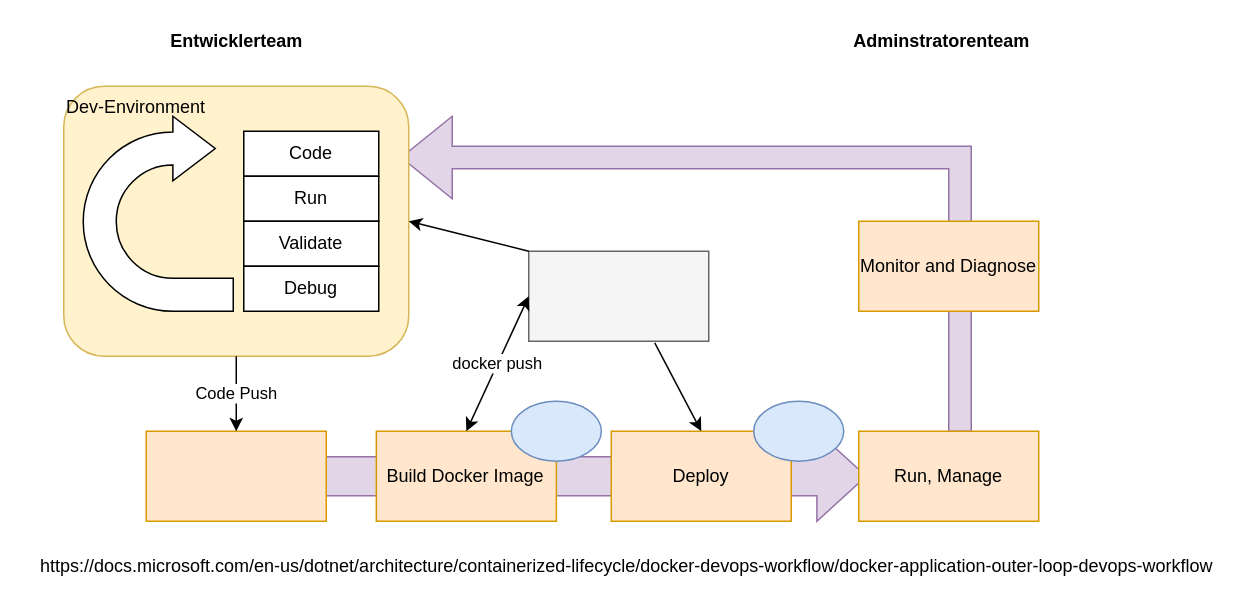
Some shapes in this 1251 by 606 pixel diagram are drawn without their labels. Each missing label, with the centre of its shape:
CD: the point at 798,430
CI: the point at 555,430
Docker Registry: the point at 618,295
Source-code control: the point at 235,475
